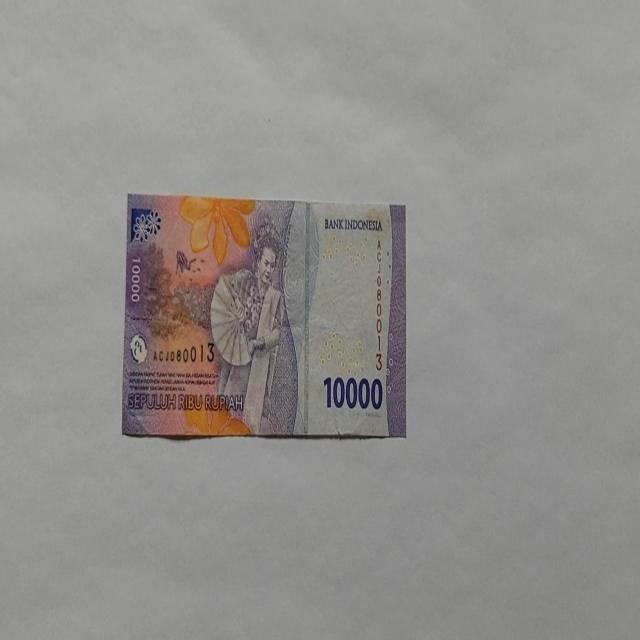Kertas: (121, 193, 407, 441), (322, 373, 384, 411)
